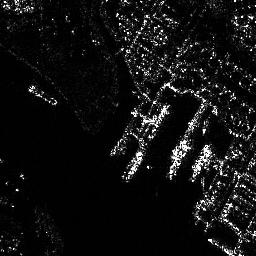ship: (168, 139, 191, 181), (191, 145, 212, 180), (27, 84, 58, 105), (124, 154, 145, 183)
